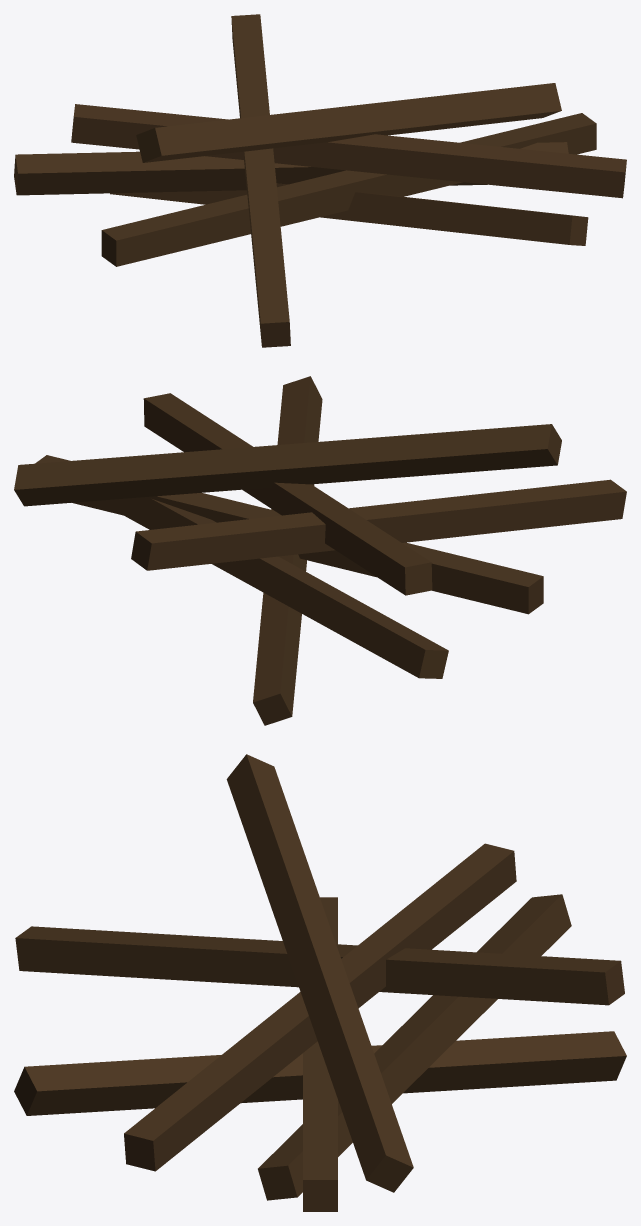
Rendered from palos.obj.
3 renders of one model, top to bottom at view 1: azimuth 30°, elevation 25°; view 2: azimuth 150°, elevation 25°; view 3: azimuth 270°, elevation 25°, orthographic. The views are drawn at different scales.
Parts seen in each view (by area): view 1: Cube.002; view 2: Cube.002; view 3: Cube.002.
Part boxes in pixels (x1,y1,x2,y2): Cube.002: (14, 14, 626, 347); Cube.002: (14, 376, 626, 725); Cube.002: (14, 754, 626, 1211).
Bounding box in the file's own units: 23.63 × 9.8 × 21.5.
1 material, 1 textured.
